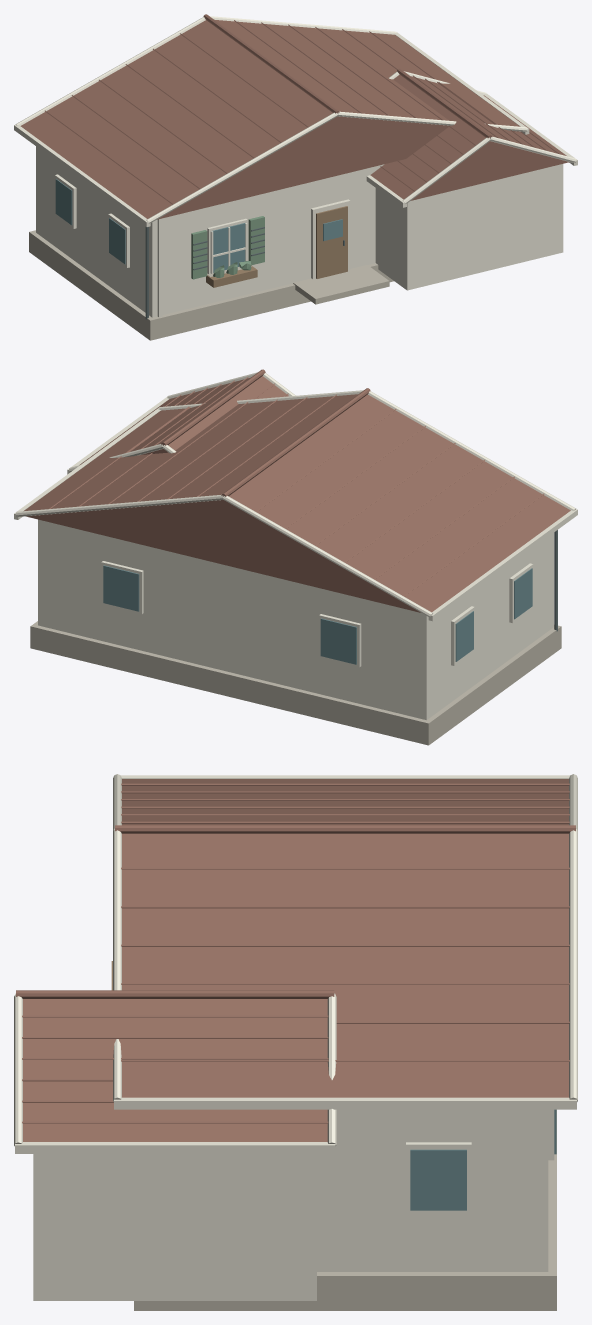
3 views of the same model, one above another, from view 1: azimuth 30°, elevation 25°; view 2: azimuth 150°, elevation 25°; view 3: azimuth 270°, elevation 25° (orthographic). The views are drawn at different scales.
Bounding box in the file's own units: 13.62 × 6.12 × 9.46.
